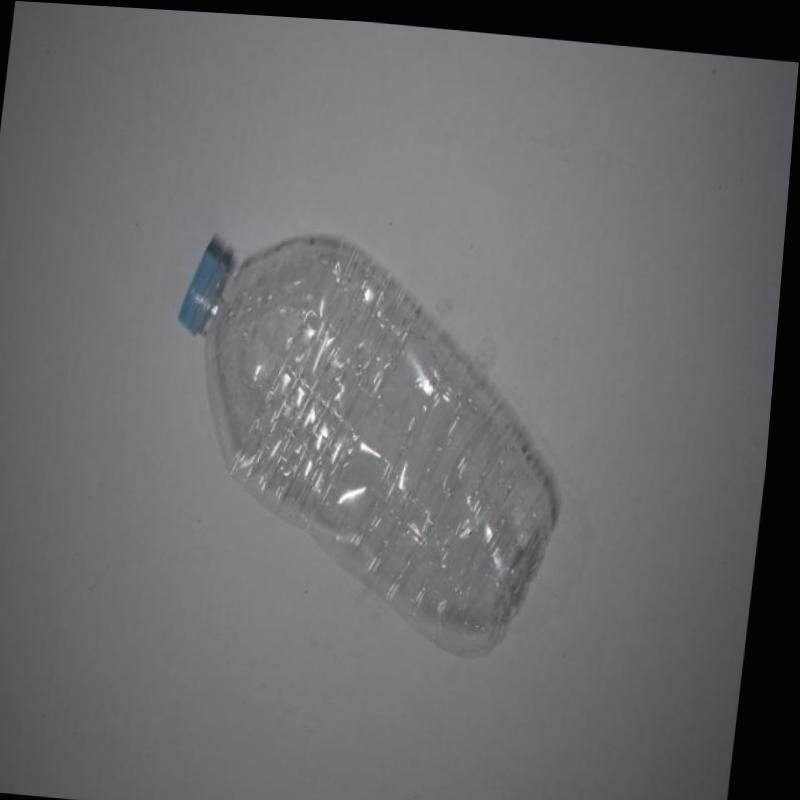botella: (150, 219, 590, 658)
